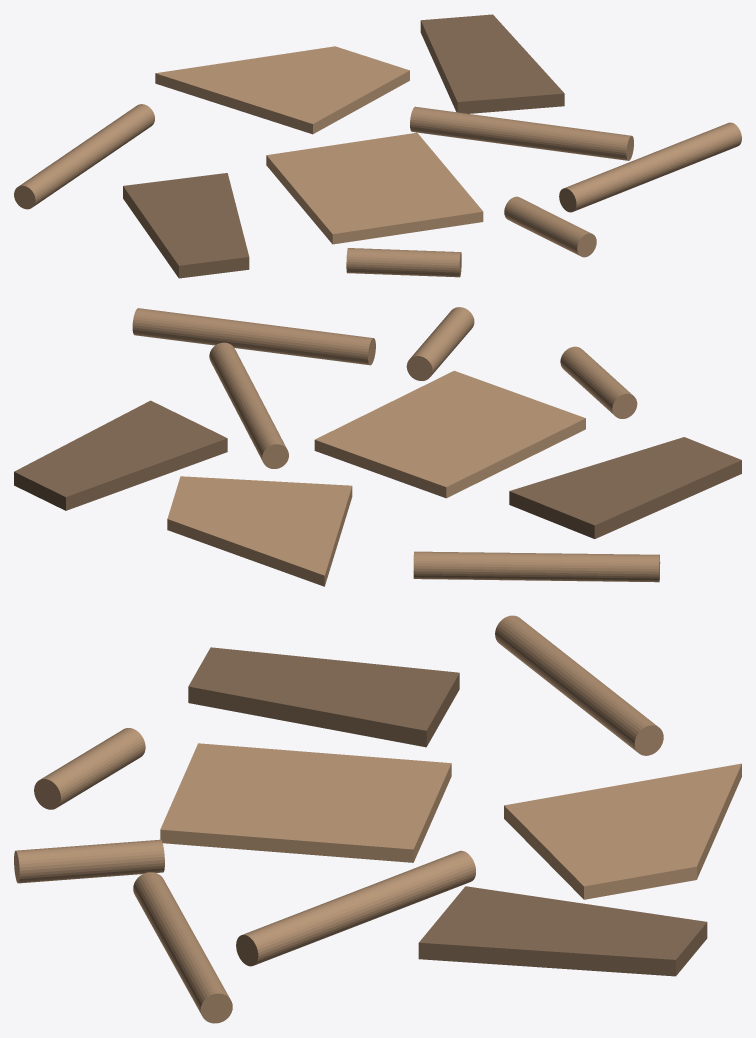
File: broken_chair.fbx
3 renders of one model, top to bottom at view 1: azimuth 30°, elevation 25°; view 2: azimuth 150°, elevation 25°; view 3: azimuth 270°, elevation 25°, orthographic. The views are drawn at different scales.
Visible parts, largest first — view 1: Cube, Cube.003, Cube.001, Cube.002, Cylinder.001, Cylinder, Cylinder.003, Cylinder.002, Cylinder.004; view 2: Cube, Cube.003, Cube.002, Cube.001, Cylinder.003, Cylinder, Cylinder.001, Cylinder.002, Cylinder.004; view 3: Cube, Cube.003, Cube.001, Cube.002, Cylinder.001, Cylinder.003, Cylinder, Cylinder.004, Cylinder.002.
Boxes of the visible parts, left/top/right/bottom form: Cube: left=266, top=132, right=483, bottom=244; Cube.003: left=155, top=46, right=409, bottom=134; Cube.001: left=420, top=14, right=564, bottom=113; Cube.002: left=123, top=173, right=249, bottom=278; Cylinder.001: left=410, top=106, right=633, bottom=160; Cylinder: left=559, top=122, right=741, bottom=212; Cylinder.003: left=14, top=104, right=154, bottom=209; Cylinder.002: left=346, top=248, right=461, bottom=277; Cylinder.004: left=504, top=196, right=596, bottom=257; Cube: left=314, top=370, right=585, bottom=498; Cube.003: left=167, top=476, right=352, bottom=586; Cube.002: left=509, top=437, right=741, bottom=538; Cube.001: left=14, top=400, right=227, bottom=510; Cylinder.003: left=413, top=551, right=660, bottom=582; Cylinder: left=132, top=308, right=375, bottom=365; Cylinder.001: left=209, top=342, right=288, bottom=468; Cylinder.002: left=560, top=346, right=637, bottom=418; Cylinder.004: left=406, top=307, right=474, bottom=380; Cube: left=160, top=743, right=451, bottom=862; Cube.003: left=504, top=763, right=741, bottom=899; Cube.001: left=418, top=886, right=707, bottom=976; Cube.002: left=188, top=647, right=459, bottom=747; Cylinder.001: left=236, top=850, right=475, bottom=966; Cylinder.003: left=495, top=615, right=663, bottom=755; Cylinder: left=133, top=872, right=232, bottom=1023; Cylinder.004: left=14, top=839, right=164, bottom=883; Cylinder.002: left=34, top=728, right=145, bottom=809.
Size of the model in its own units: 383 by 13.96 by 308.
